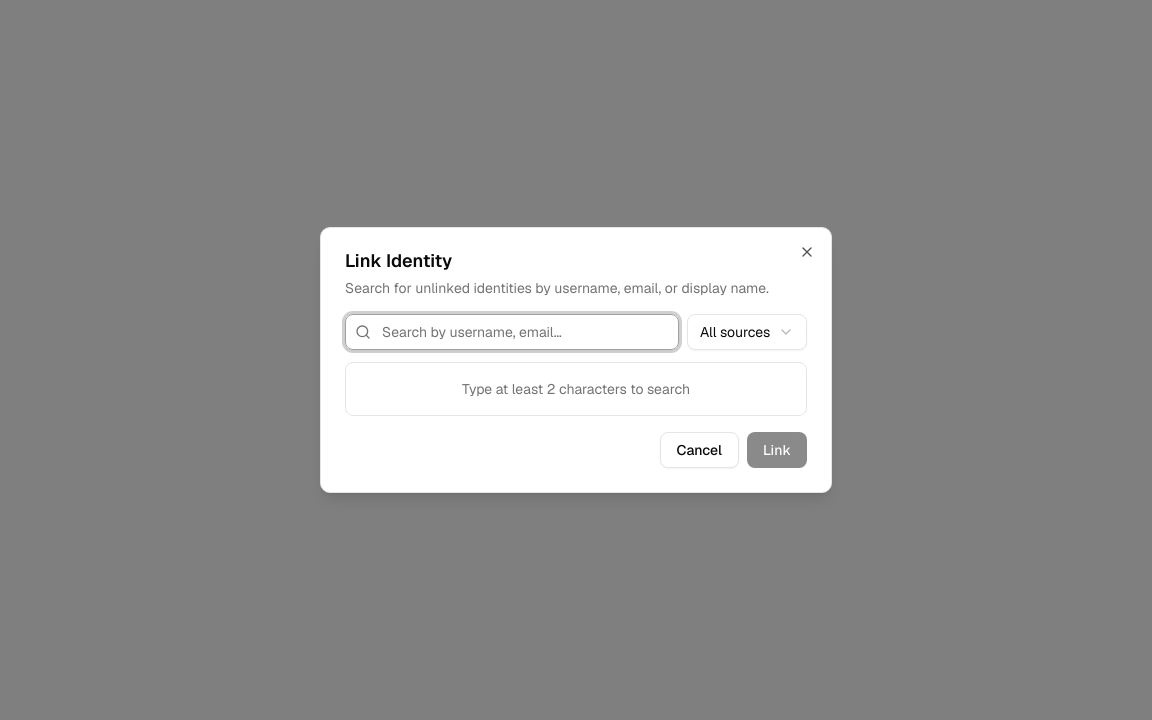
LinkIdentityDialog › renders orphan identity results
// Type in search to trigger results display
Type "alice" into the field with placeholder "Search by username, email…" at (512, 332), box [345, 314, 679, 350]
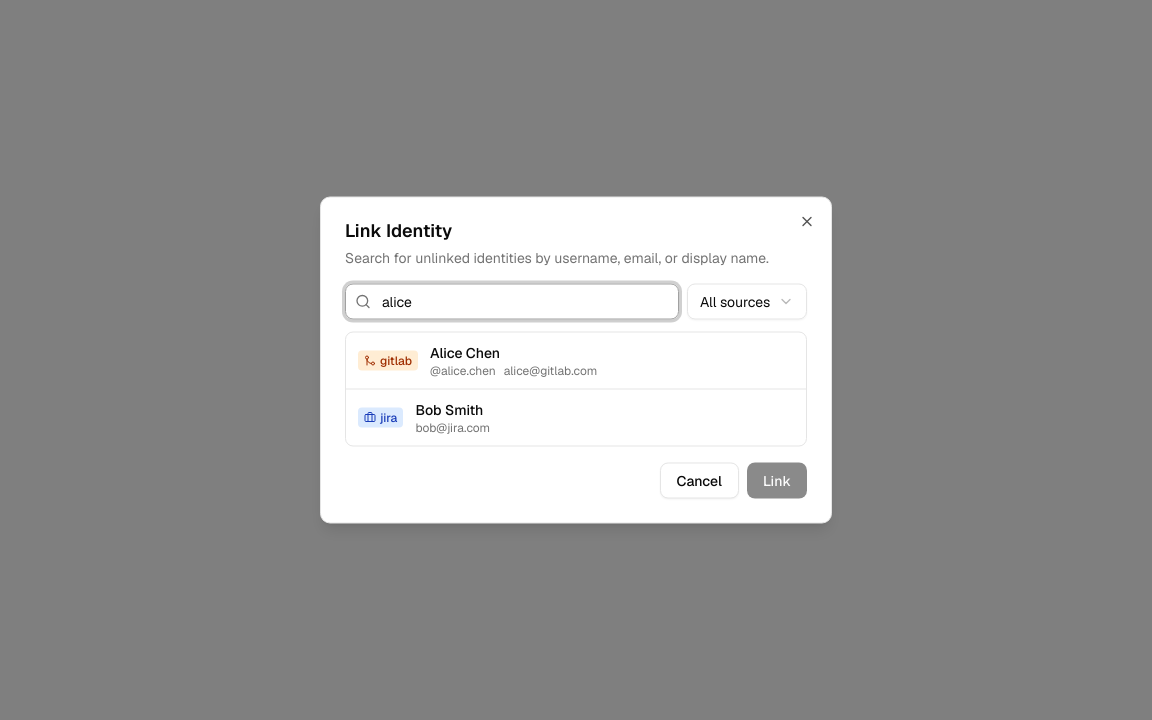
Now the text "Alice Chen" is shown, box [430, 342, 500, 362]
Now the text "Bob Smith" is shown, box [415, 400, 483, 420]
Now the text "@alice.chen" is shown, box [430, 362, 496, 378]
